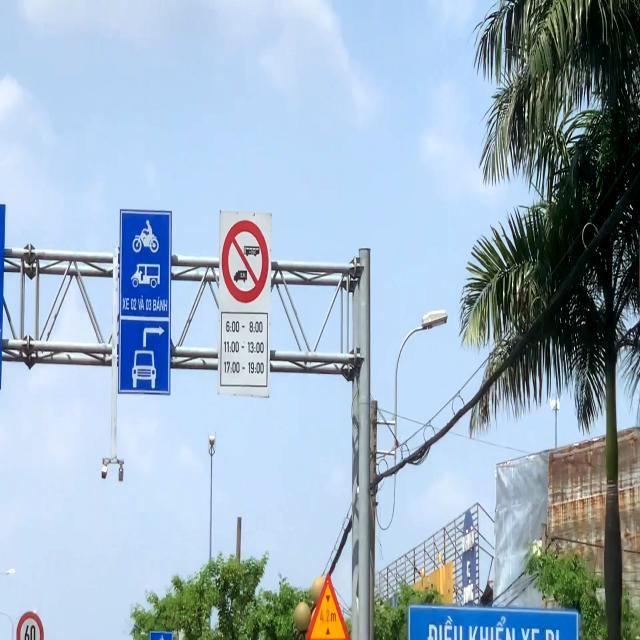S.509a: (303, 569, 353, 640)
